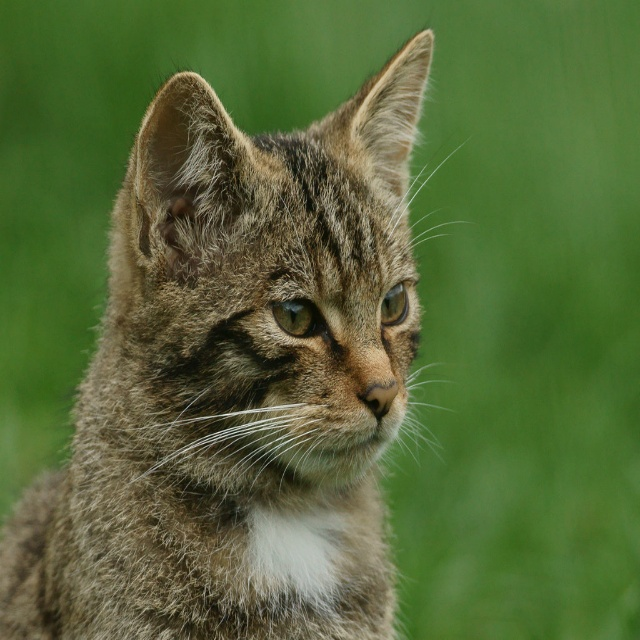Lynx: (0, 16, 473, 639)
